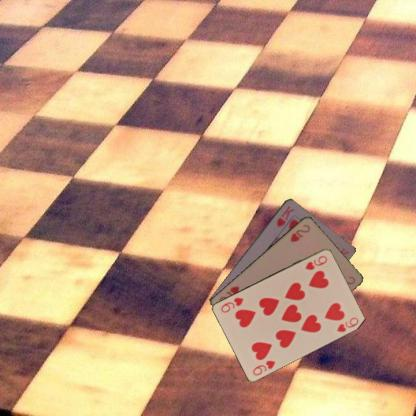2h: (288, 222, 311, 244)
9h: (250, 357, 277, 377), (302, 252, 329, 271)
Kh: (274, 203, 296, 228)
